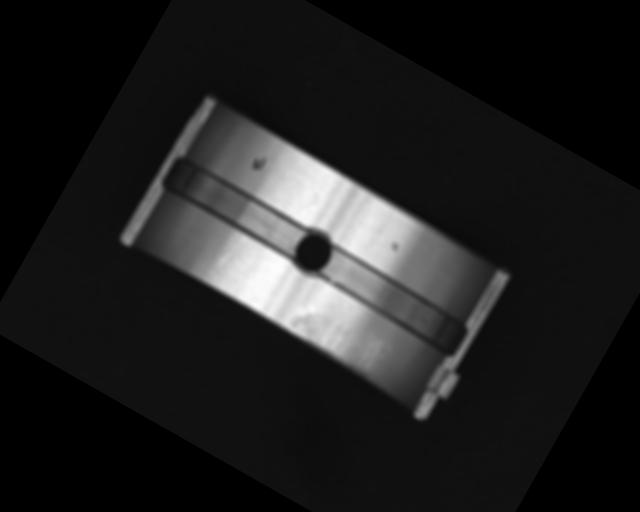blot: (249, 152, 269, 175)
bruise: (389, 240, 401, 253)
gap: (309, 241, 473, 359), (156, 151, 312, 264)
hole: (284, 223, 340, 284)
nick: (215, 229, 246, 271), (369, 215, 390, 246)
scratch: (283, 296, 392, 382)
